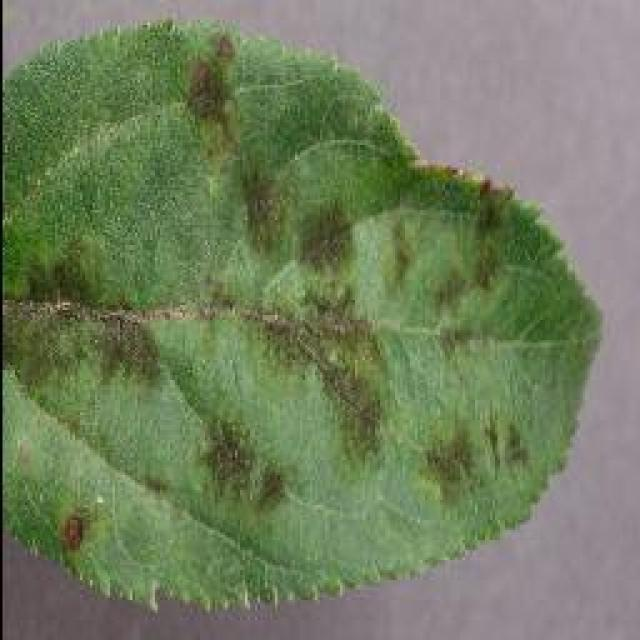apple scab disease: (0, 15, 602, 612)
